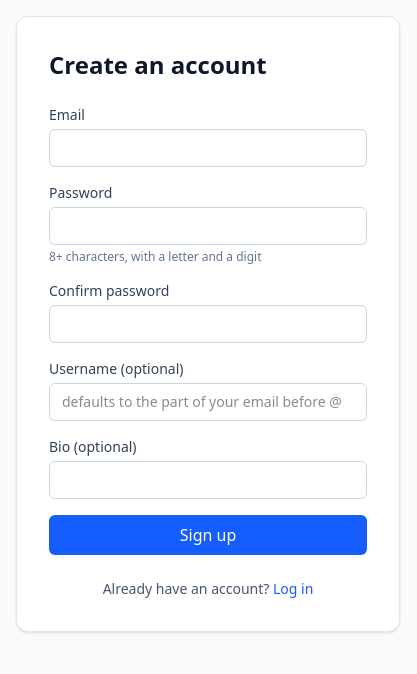
it: SignupPage › shows the server field error when the email is taken
Type "neo@test.local" into the field labelled "Email" at [208, 148], box [49, 129, 367, 167]
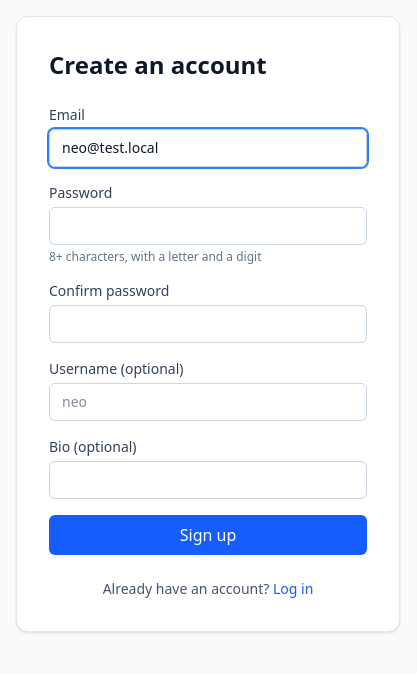
Type "Passw0rd!" into the password field labelled "Password" at [208, 226], box [49, 207, 367, 245]
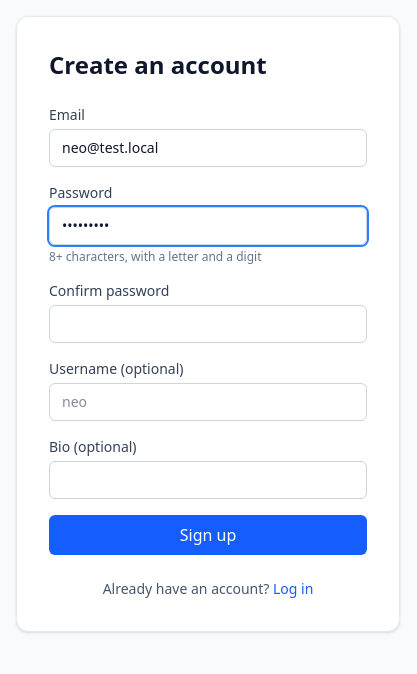
Type "Passw0rd!" into the password field labelled "Confirm password" at [208, 324], box [49, 305, 367, 343]
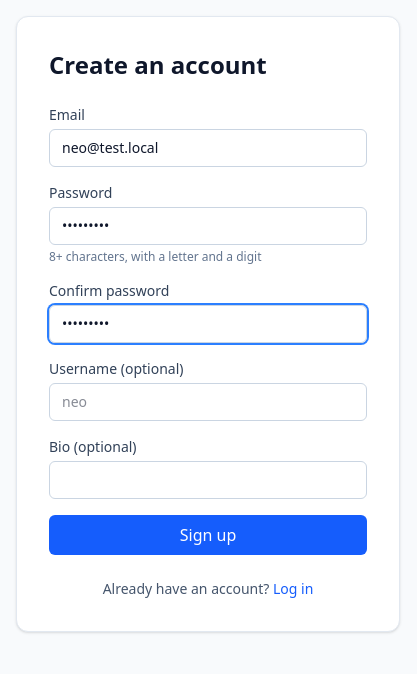
Click the button "Sign up" at [208, 535], box [49, 515, 367, 555]
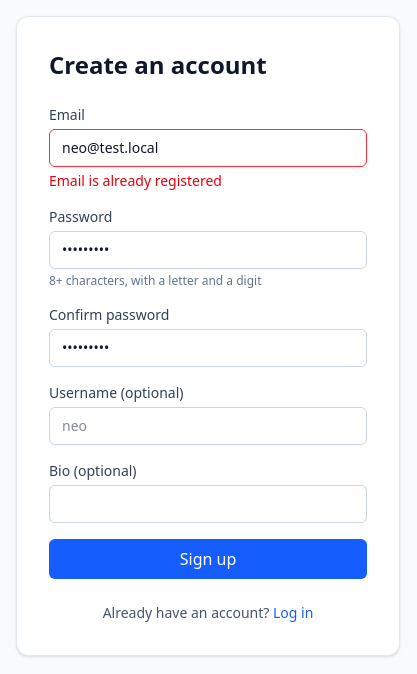
Check: the text "Email is already registered" is shown, box [49, 171, 222, 190]
